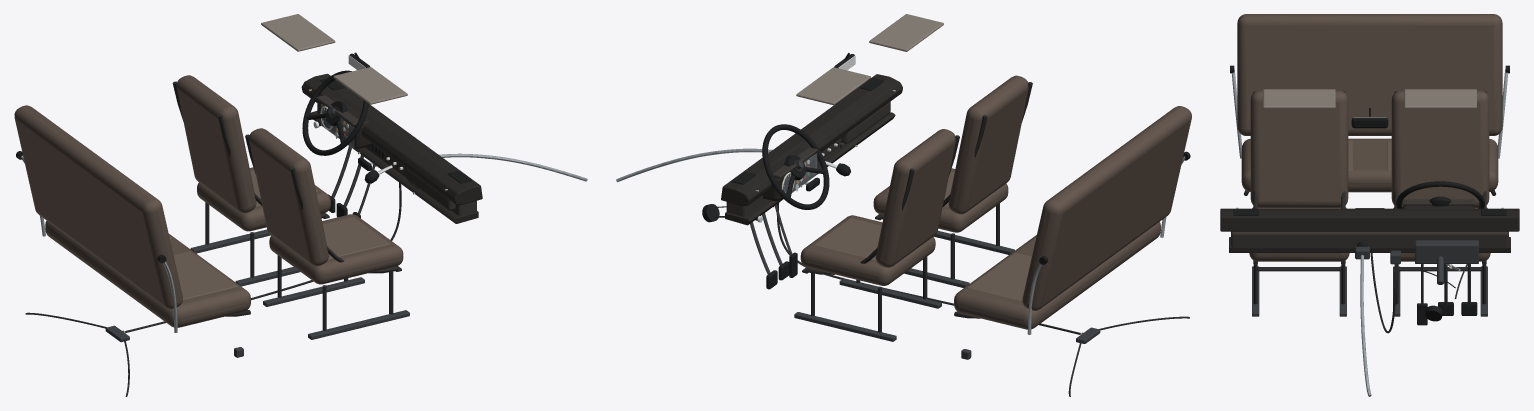
The model's file is interieur.glb.
The picture shows the model from 3 angles, left to right: view 1: azimuth 30°, elevation 25°; view 2: azimuth 150°, elevation 25°; view 3: azimuth 270°, elevation 25°; orthographic projection. The views are drawn at different scales.
Parts seen in each view (by area): view 1: banquette.tissu-siege, sieges-av.tissu-siege.001, sieges-av.tissu-siege, planche-bord.planche, planche-bord.pare-soleil, banquette.tissu-motif, sieges-av.tissu-motif.001, volant.noir, sieges-av.acier-noirci.001, planche-bord.planche-gris, sieges-av.tube-siege.001, sieges-av.acier-noirci (+5 smaller); view 2: banquette.tissu-siege, sieges-av.tissu-siege, sieges-av.tissu-siege.001, planche-bord.planche, planche-bord.pare-soleil, volant.noir, banquette.tissu-motif, sieges-av.tissu-motif, planche-bord.planche-gris, sieges-av.acier-noirci, sieges-av.tube-siege, sieges-av.acier-noirci.001 (+5 smaller); view 3: banquette.tissu-siege, sieges-av.tissu-siege.001, sieges-av.tissu-siege, planche-bord.planche, planche-bord.planche-gris, planche-bord.pare-soleil, pedalier.acier-noirci, sieges-av.tube-siege.001, volant.noir, planche-bord.noir, sieges-av.tube-siege, pedalier.caoutchouc (+6 smaller).
Part boxes in pixels (bbox=[...]): banquette.tissu-siege: bbox=[14, 105, 250, 327]; sieges-av.tissu-siege.001: bbox=[249, 128, 403, 284]; sieges-av.tissu-siege: bbox=[177, 75, 330, 231]; planche-bord.planche: bbox=[301, 73, 482, 223]; planche-bord.pare-soleil: bbox=[261, 14, 407, 104]; banquette.tissu-motif: bbox=[169, 236, 237, 299]; sieges-av.tissu-motif.001: bbox=[323, 217, 390, 259]; volant.noir: bbox=[302, 70, 368, 155]; sieges-av.acier-noirci.001: bbox=[263, 277, 409, 339]; planche-bord.planche-gris: bbox=[316, 95, 476, 215]; sieges-av.tube-siege.001: bbox=[245, 134, 401, 330]; sieges-av.acier-noirci: bbox=[190, 229, 300, 286]; banquette.tissu-siege: bbox=[954, 106, 1191, 329]; sieges-av.tissu-siege: bbox=[800, 129, 955, 285]; sieges-av.tissu-siege.001: bbox=[873, 75, 1028, 232]; planche-bord.planche: bbox=[721, 74, 902, 225]; planche-bord.pare-soleil: bbox=[796, 14, 943, 105]; volant.noir: bbox=[762, 124, 829, 209]; banquette.tissu-motif: bbox=[967, 237, 1036, 301]; sieges-av.tissu-motif: bbox=[813, 218, 881, 260]; planche-bord.planche-gris: bbox=[726, 101, 890, 216]; sieges-av.acier-noirci: bbox=[794, 278, 941, 341]; sieges-av.tube-siege: bbox=[802, 135, 959, 332]; sieges-av.acier-noirci.001: bbox=[904, 230, 1014, 287]; banquette.tissu-siege: bbox=[1237, 14, 1502, 192]; sieges-av.tissu-siege.001: bbox=[1249, 90, 1349, 261]; sieges-av.tissu-siege: bbox=[1391, 90, 1490, 261]; planche-bord.planche: bbox=[1220, 205, 1519, 252]; planche-bord.planche-gris: bbox=[1231, 199, 1508, 248]; planche-bord.pare-soleil: bbox=[1263, 89, 1476, 108]; pedalier.acier-noirci: bbox=[1415, 240, 1478, 308]; sieges-av.tube-siege.001: bbox=[1253, 91, 1345, 304]; volant.noir: bbox=[1396, 181, 1484, 208]; planche-bord.noir: bbox=[1233, 108, 1506, 215]; sieges-av.tube-siege: bbox=[1394, 91, 1486, 304]; pedalier.caoutchouc: bbox=[1417, 302, 1477, 325].
Bounding box in the file's own units: 2.72 × 1.18 × 1.4.
